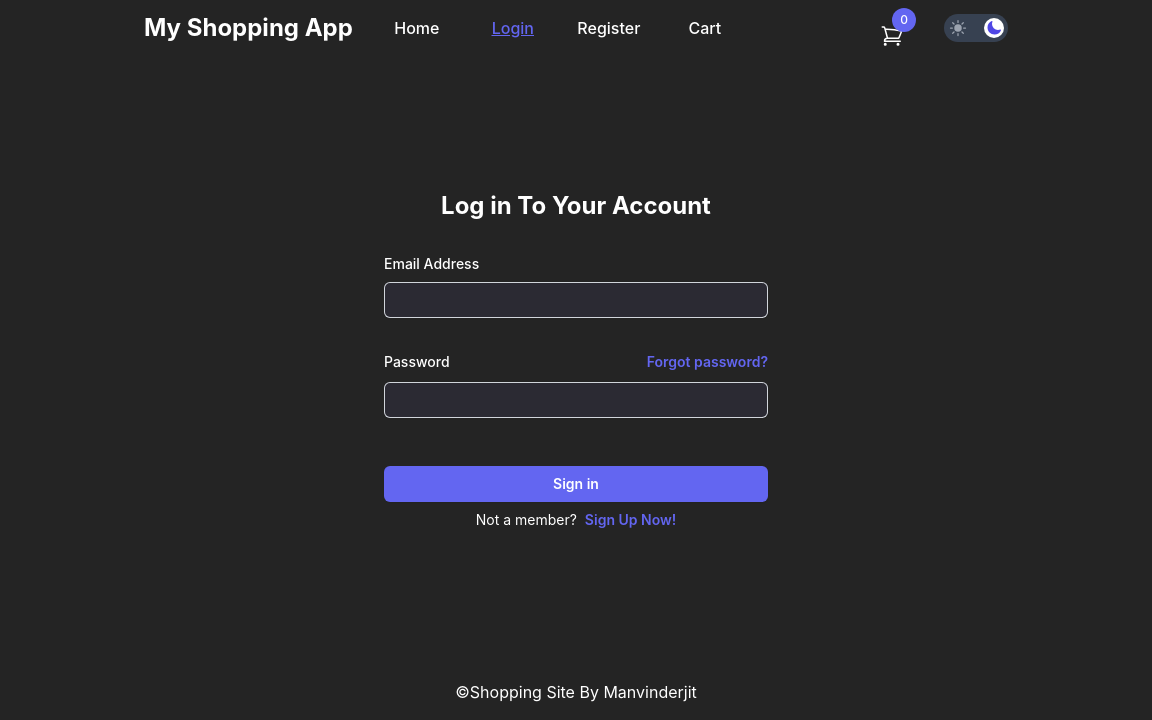
should render Login error messages › should not submit form with userEmail empty but Password entered and render error messages
Expected: the field labelled "Email Address" is empty, left=384, top=282, right=768, bottom=318
Expected: the button "Sign in" is shown, left=384, top=466, right=768, bottom=502
In the password field labelled "Password": (576, 400) left=384, top=382, right=768, bottom=418, type "password"
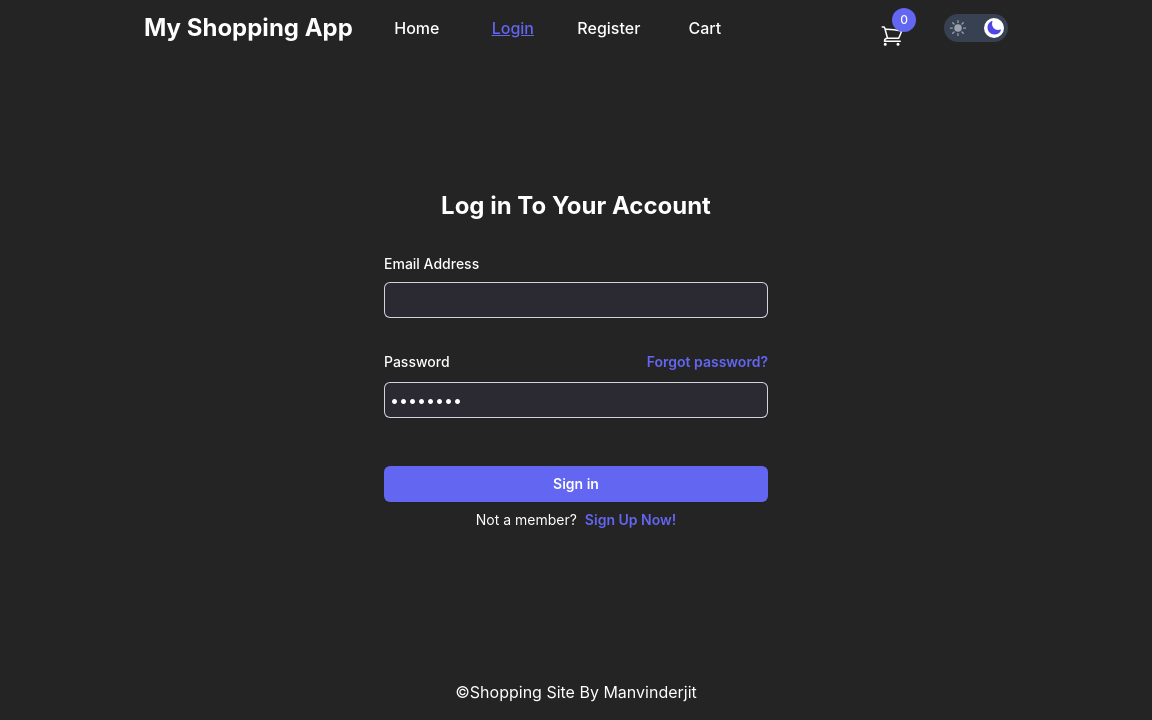
Click the button "Sign in": (576, 484) left=384, top=466, right=768, bottom=502
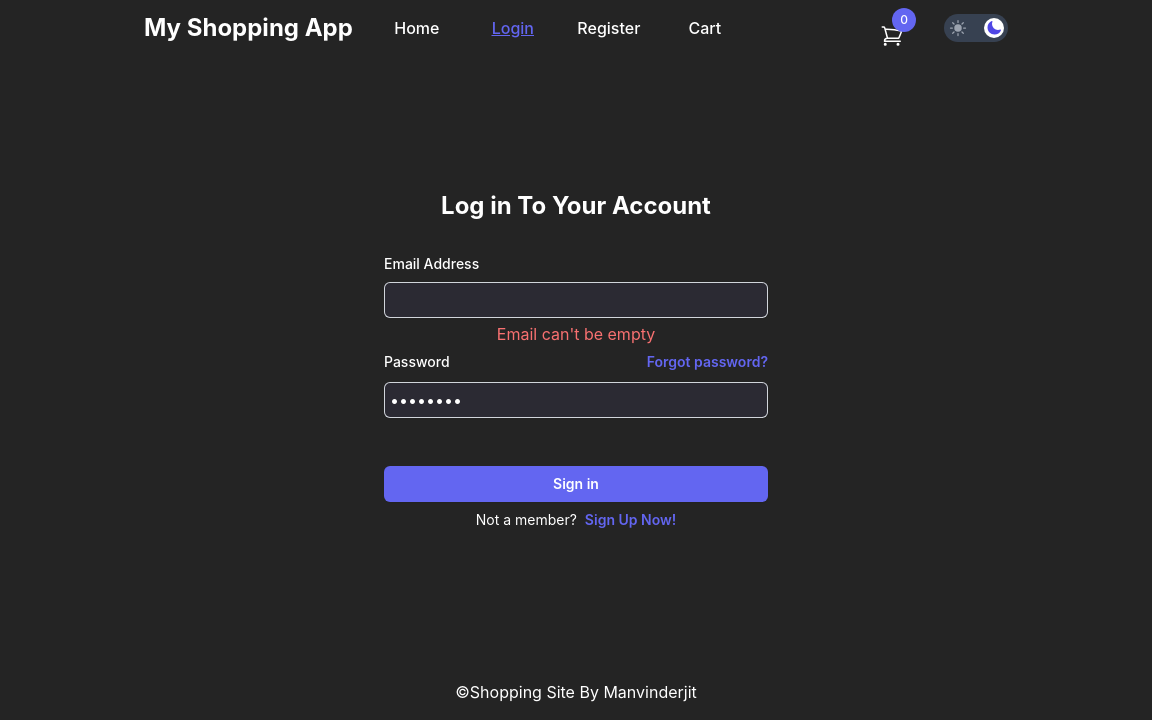
Expected: the field labelled "Email Address" is empty, left=384, top=282, right=768, bottom=318
Result: the text "Email can't be empty" is shown at left=497, top=324, right=655, bottom=344
